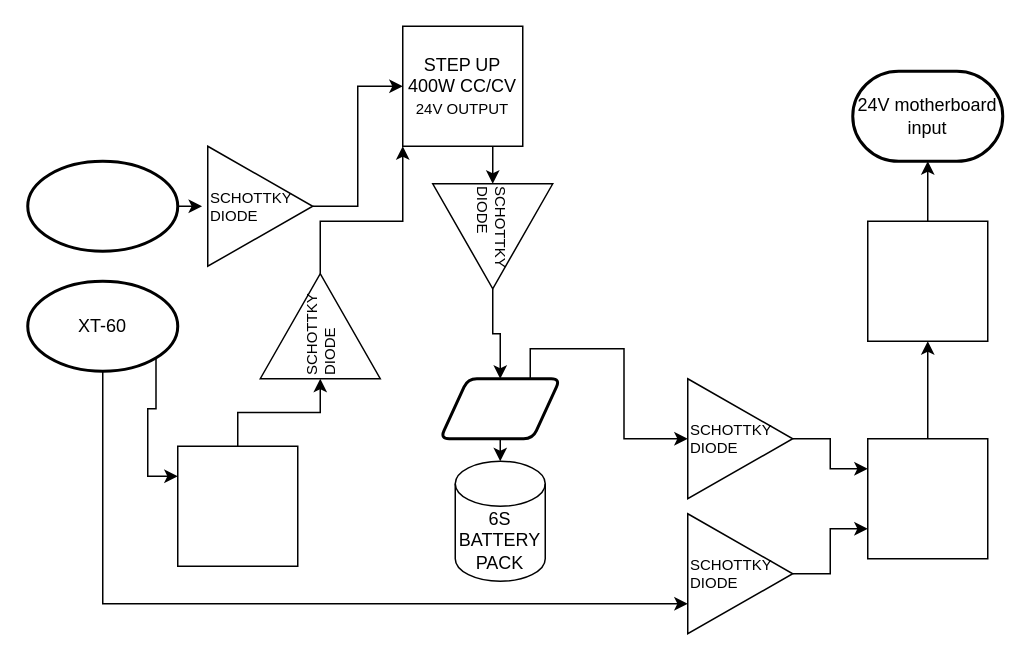
The diagram is 1029 pixels wide and 660 high, and some of its shapes have lost their labels. The shapes that lost their labels are listed below. From the top down, each one's centre as x and y in pixels, then its label:
the point at 102,205: USB C PD
the point at 927,280: STEP UP 150W 24V OUTPUT
the point at 499,408: Current Sensor
the point at 237,505: STEP DOWN 12V OUTPUT
the point at 927,498: POWER MOSFET
